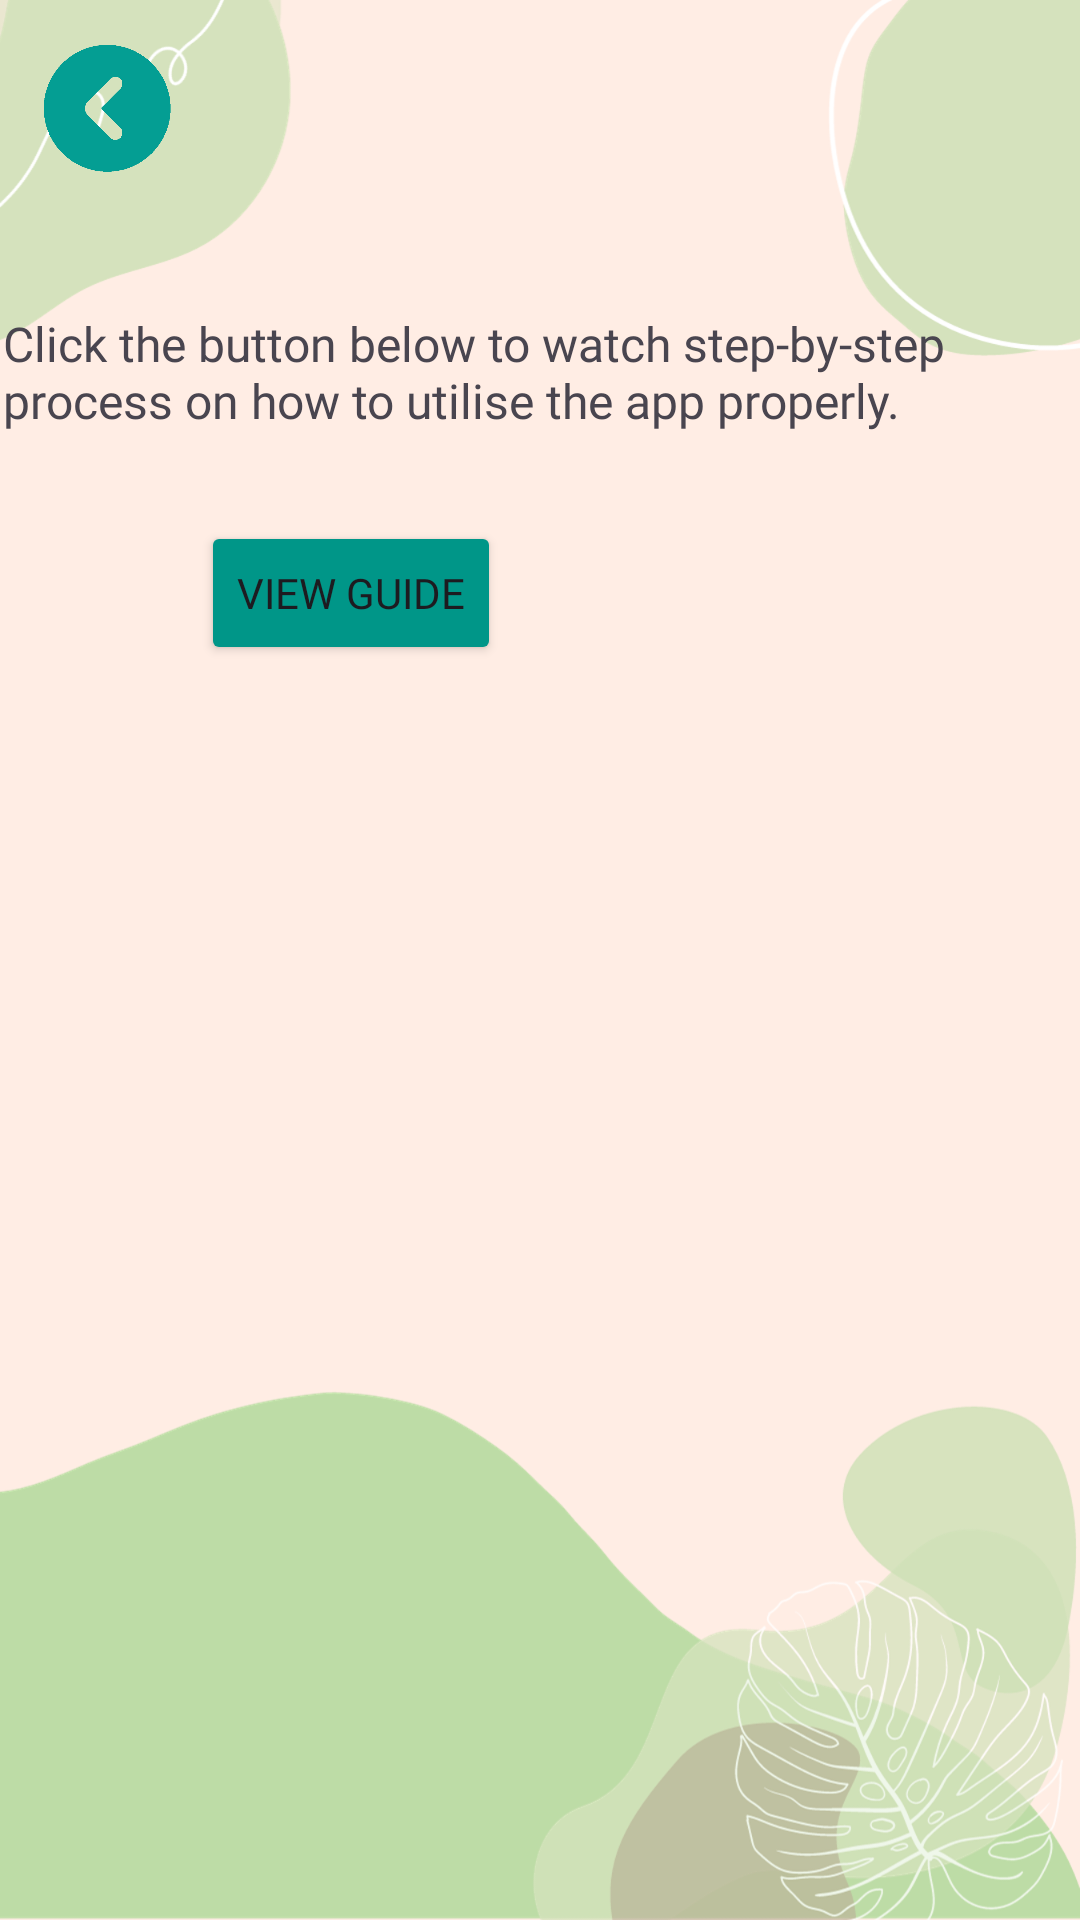

Icon bounding boxes for this 1080px x 1920px phone screenshot, format detection(x1, y1, x2, y2):
backicon: detection(41, 45, 173, 172)
